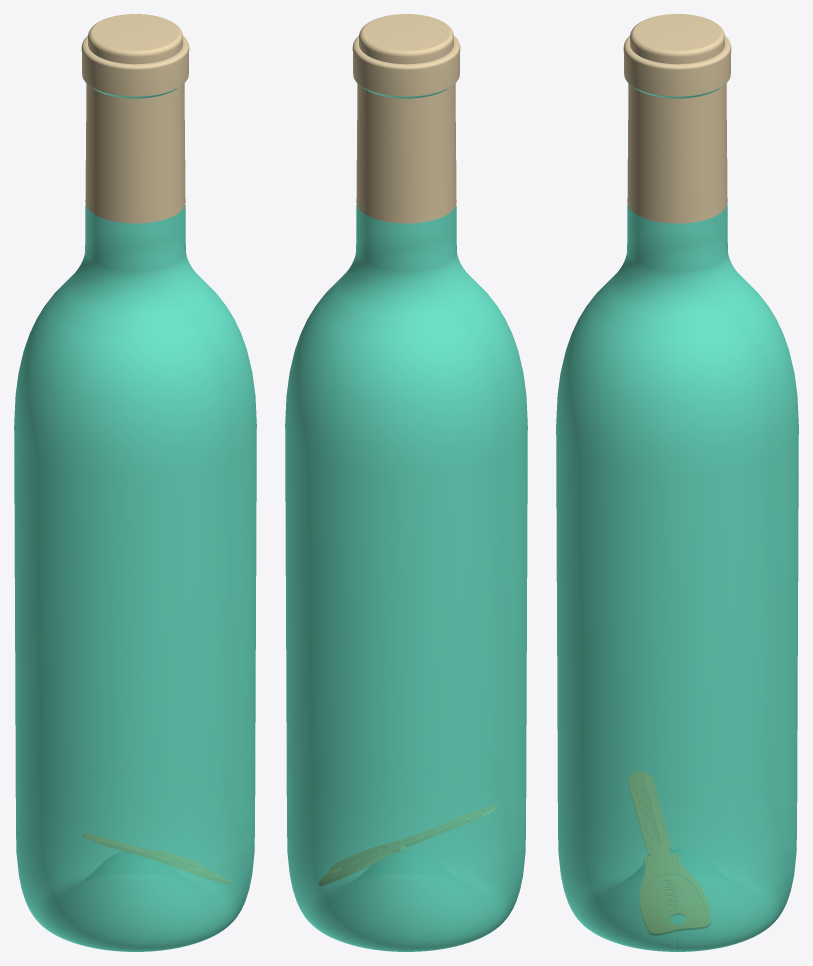
Rendered from bottleJustModel.fbx.
3 views of the same model, side by side, from view 1: azimuth 30°, elevation 25°; view 2: azimuth 150°, elevation 25°; view 3: azimuth 270°, elevation 25° (orthographic).
Visible parts, largest first — view 1: 回転, 回転_1, Key; view 2: 回転, 回転_1, Key; view 3: 回転, 回転_1, Key.
Part boxes in pixels (bbox=[...]): 回転: bbox=[14, 79, 256, 951]; 回転_1: bbox=[81, 14, 189, 223]; Key: bbox=[83, 833, 230, 884]; 回転: bbox=[285, 79, 527, 951]; 回転_1: bbox=[352, 14, 460, 223]; Key: bbox=[319, 806, 495, 885]; 回転: bbox=[556, 79, 798, 951]; 回転_1: bbox=[623, 14, 731, 223]; Key: bbox=[628, 771, 710, 934].
Size of the model in its own units: 7.53 by 30.09 by 7.53.
